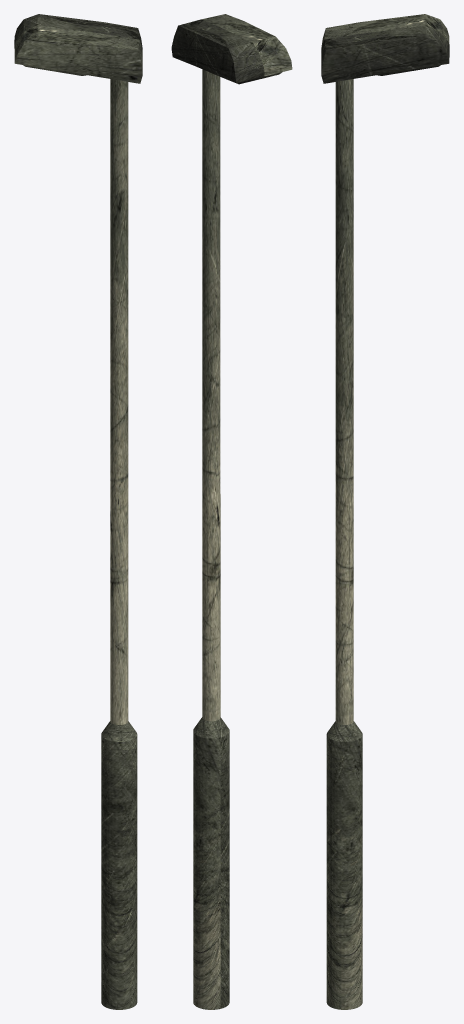
File: gatlykta.obj
The picture shows the model from 3 angles, left to right: view 1: azimuth 90°, elevation 25°; view 2: azimuth 210°, elevation 25°; view 3: azimuth 270°, elevation 25°; orthographic projection.
Visible parts, largest first — view 1: Cylinder; view 2: Cylinder; view 3: Cylinder.
Part boxes in pixels (x1,y1,x2,y2): Cylinder: (14,14,142,1009); Cylinder: (171,14,292,1009); Cylinder: (321,14,449,1009).
Bounding box in the file's own units: 1.11 × 18.69 × 2.22.
